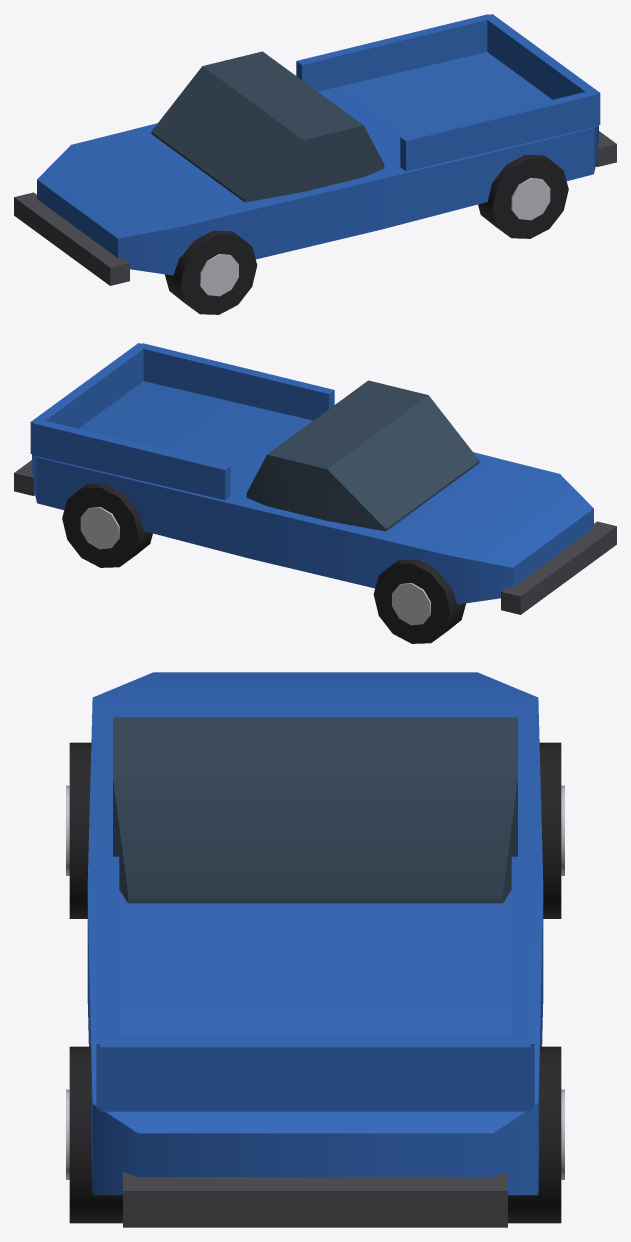
Rendered from car_pickup_blue.fbx.
3 renders of one model, top to bottom at view 1: azimuth 30°, elevation 25°; view 2: azimuth 150°, elevation 25°; view 3: azimuth 270°, elevation 25°, orthographic. The views are drawn at different scales.
Visible parts, largest first — view 1: Body, Wheel_FR, Wheel_RR; view 2: Body, Wheel_FL, Wheel_RL; view 3: Body, Wheel_RL, Wheel_RR, Wheel_FL, Wheel_FR.
Boxes of the visible parts, x1,y1,x2,y2 form: Body: (14, 14, 616, 285); Wheel_FR: (165, 230, 257, 314); Wheel_RR: (478, 154, 568, 238); Body: (14, 343, 616, 614); Wheel_FL: (373, 559, 465, 643); Wheel_RL: (62, 483, 152, 567); Body: (87, 672, 543, 1227); Wheel_RL: (508, 1046, 564, 1223); Wheel_RR: (66, 1046, 122, 1223); Wheel_FL: (539, 742, 564, 918); Wheel_FR: (66, 742, 91, 918).
Bounding box in the file's own units: 4.62 × 1.25 × 1.97.
